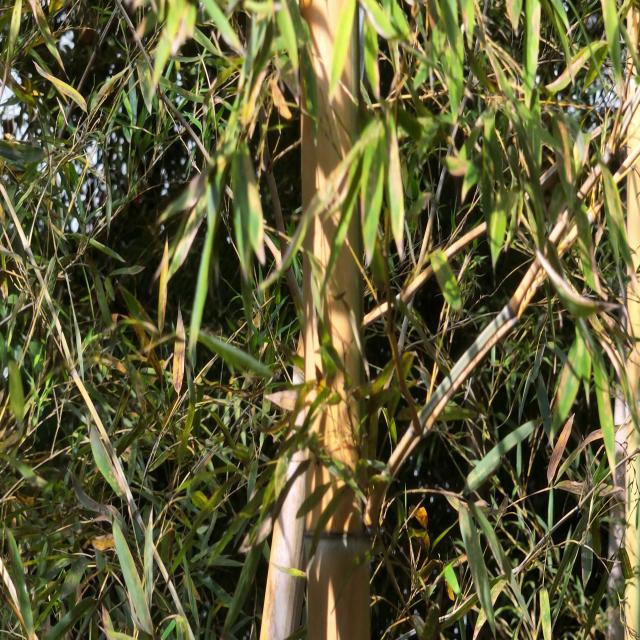Bamboo-shoots: (300, 0, 370, 640)
